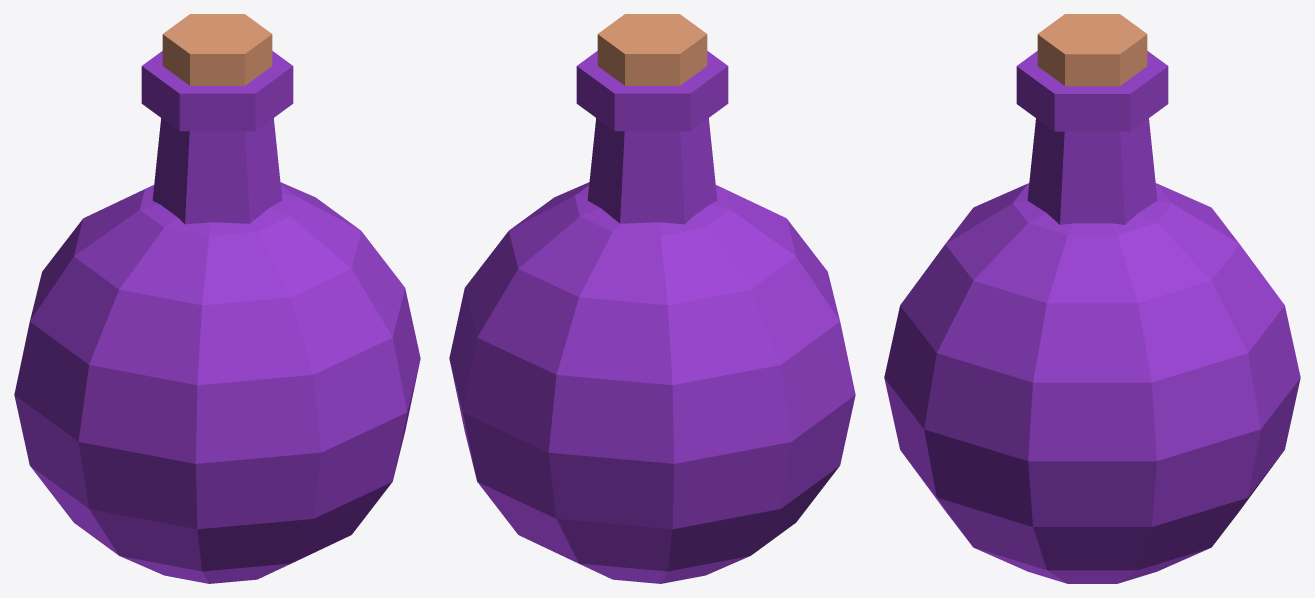
File: Halloween_BottlePurple.fbx
3 renders of one model, left to right at view 1: azimuth 30°, elevation 25°; view 2: azimuth 150°, elevation 25°; view 3: azimuth 270°, elevation 25°, orthographic.
Visible parts, largest first — view 1: Flask.001; view 2: Flask.001; view 3: Flask.001.
Part boxes in pixels (<box>): Flask.001: <box>14,14,420,583</box>; Flask.001: <box>449,14,855,583</box>; Flask.001: <box>884,14,1300,583</box>.
Bounding box in the file's own units: 174 × 258 × 183.
